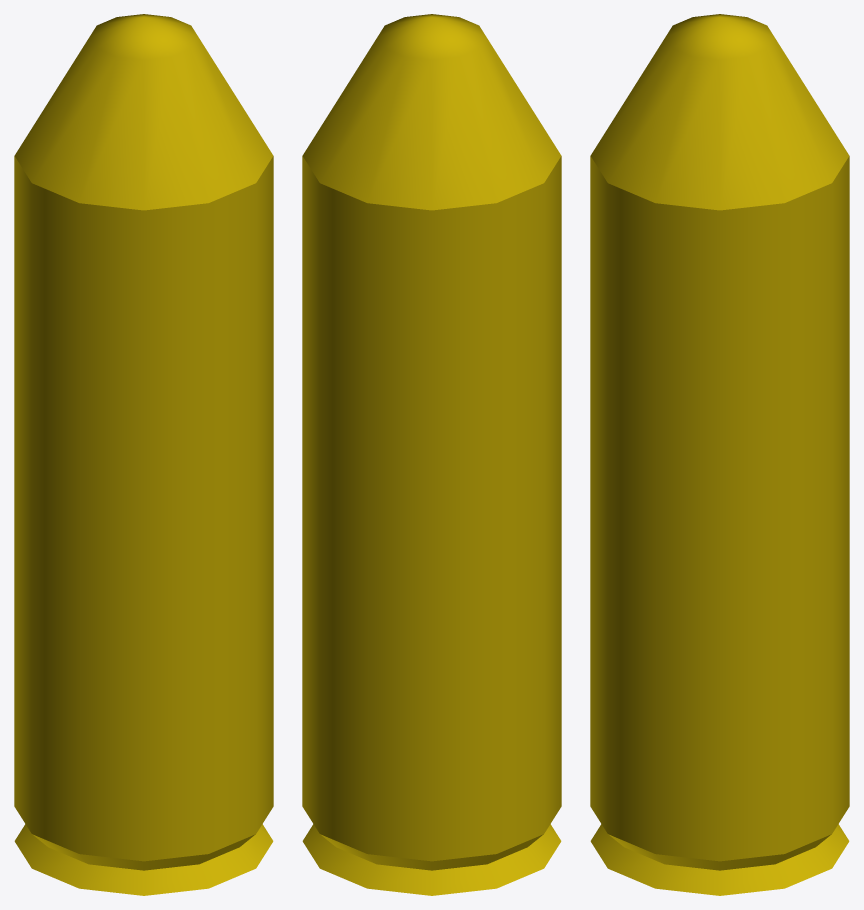
File: smgammopickup.fbx
3 renders of one model, left to right at view 1: azimuth 30°, elevation 25°; view 2: azimuth 150°, elevation 25°; view 3: azimuth 270°, elevation 25°, orthographic.
Parts seen in each view (by area): view 1: smg_ammo; view 2: smg_ammo; view 3: smg_ammo.
Part boxes in pixels (x1,y1,x2,y2): smg_ammo: (14,14,273,895); smg_ammo: (302,14,561,895); smg_ammo: (590,14,849,895).
Bounding box in the file's own units: 0.2017 × 0.7078 × 0.2017.
